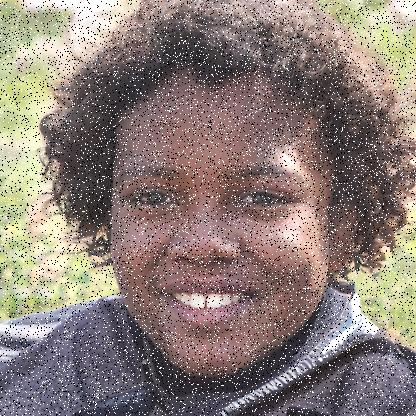eyeee: (228, 184, 308, 210), (117, 184, 188, 211)
mouthhz: (154, 276, 262, 332)
nosebb: (164, 204, 244, 266)
